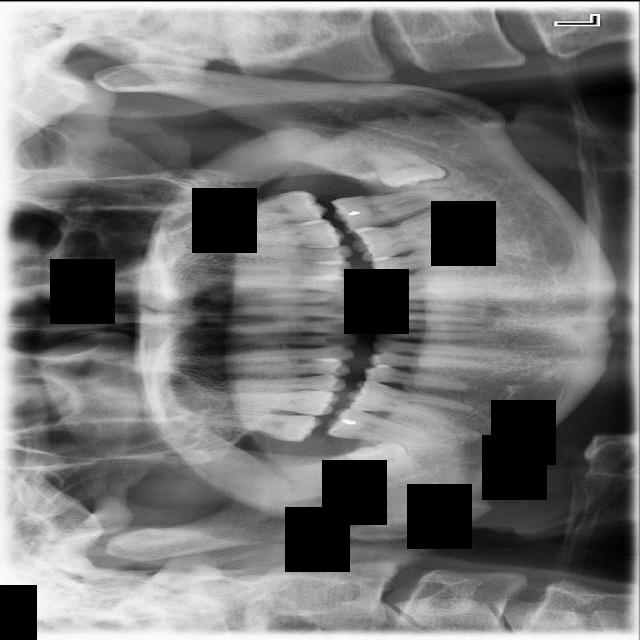52: (329, 187, 386, 238), (324, 405, 377, 441)
73: (557, 28, 567, 32)
BioHorizons Implant: (190, 186, 328, 236)
Biomet 3i Implant: (366, 131, 447, 194)
Blue Sky Bio Implant: (329, 180, 457, 236)
Caries: (199, 409, 321, 444)
Implant: (323, 405, 442, 447)
Keystone Dental Implant: (343, 420, 423, 494)
